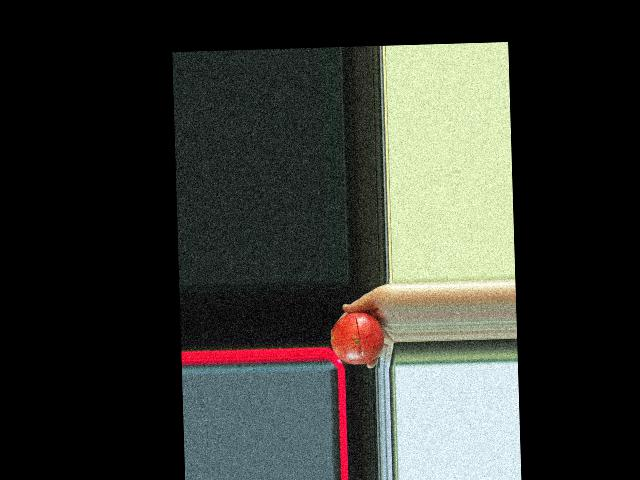tomato: (330, 311, 385, 366)
